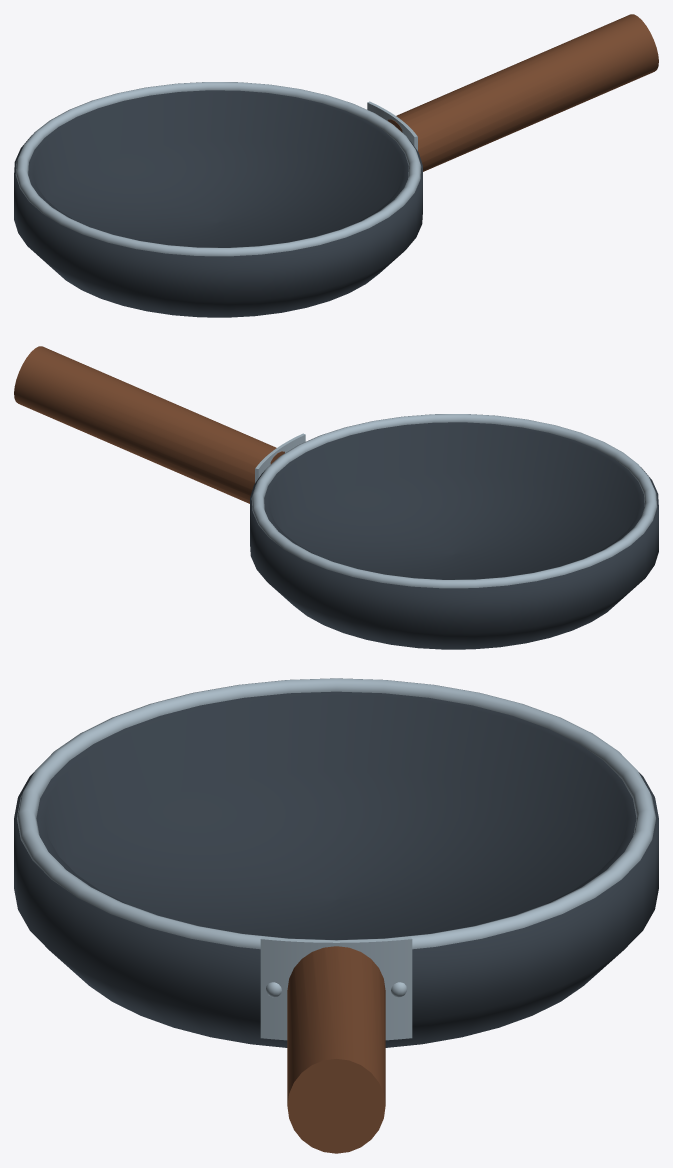
The model's file is PAN.glb.
3 views of the same model, one above another, from view 1: azimuth 30°, elevation 25°; view 2: azimuth 150°, elevation 25°; view 3: azimuth 270°, elevation 25° (orthographic). The views are drawn at different scales.
Visible parts, largest first — view 1: PAN; view 2: PAN; view 3: PAN.
Part boxes in pixels (bbox=[...]): PAN: bbox=[14, 14, 658, 317]; PAN: bbox=[14, 346, 658, 649]; PAN: bbox=[14, 678, 658, 1153].
Bounding box in the file's own units: 0.7862 × 0.1544 × 0.46.
